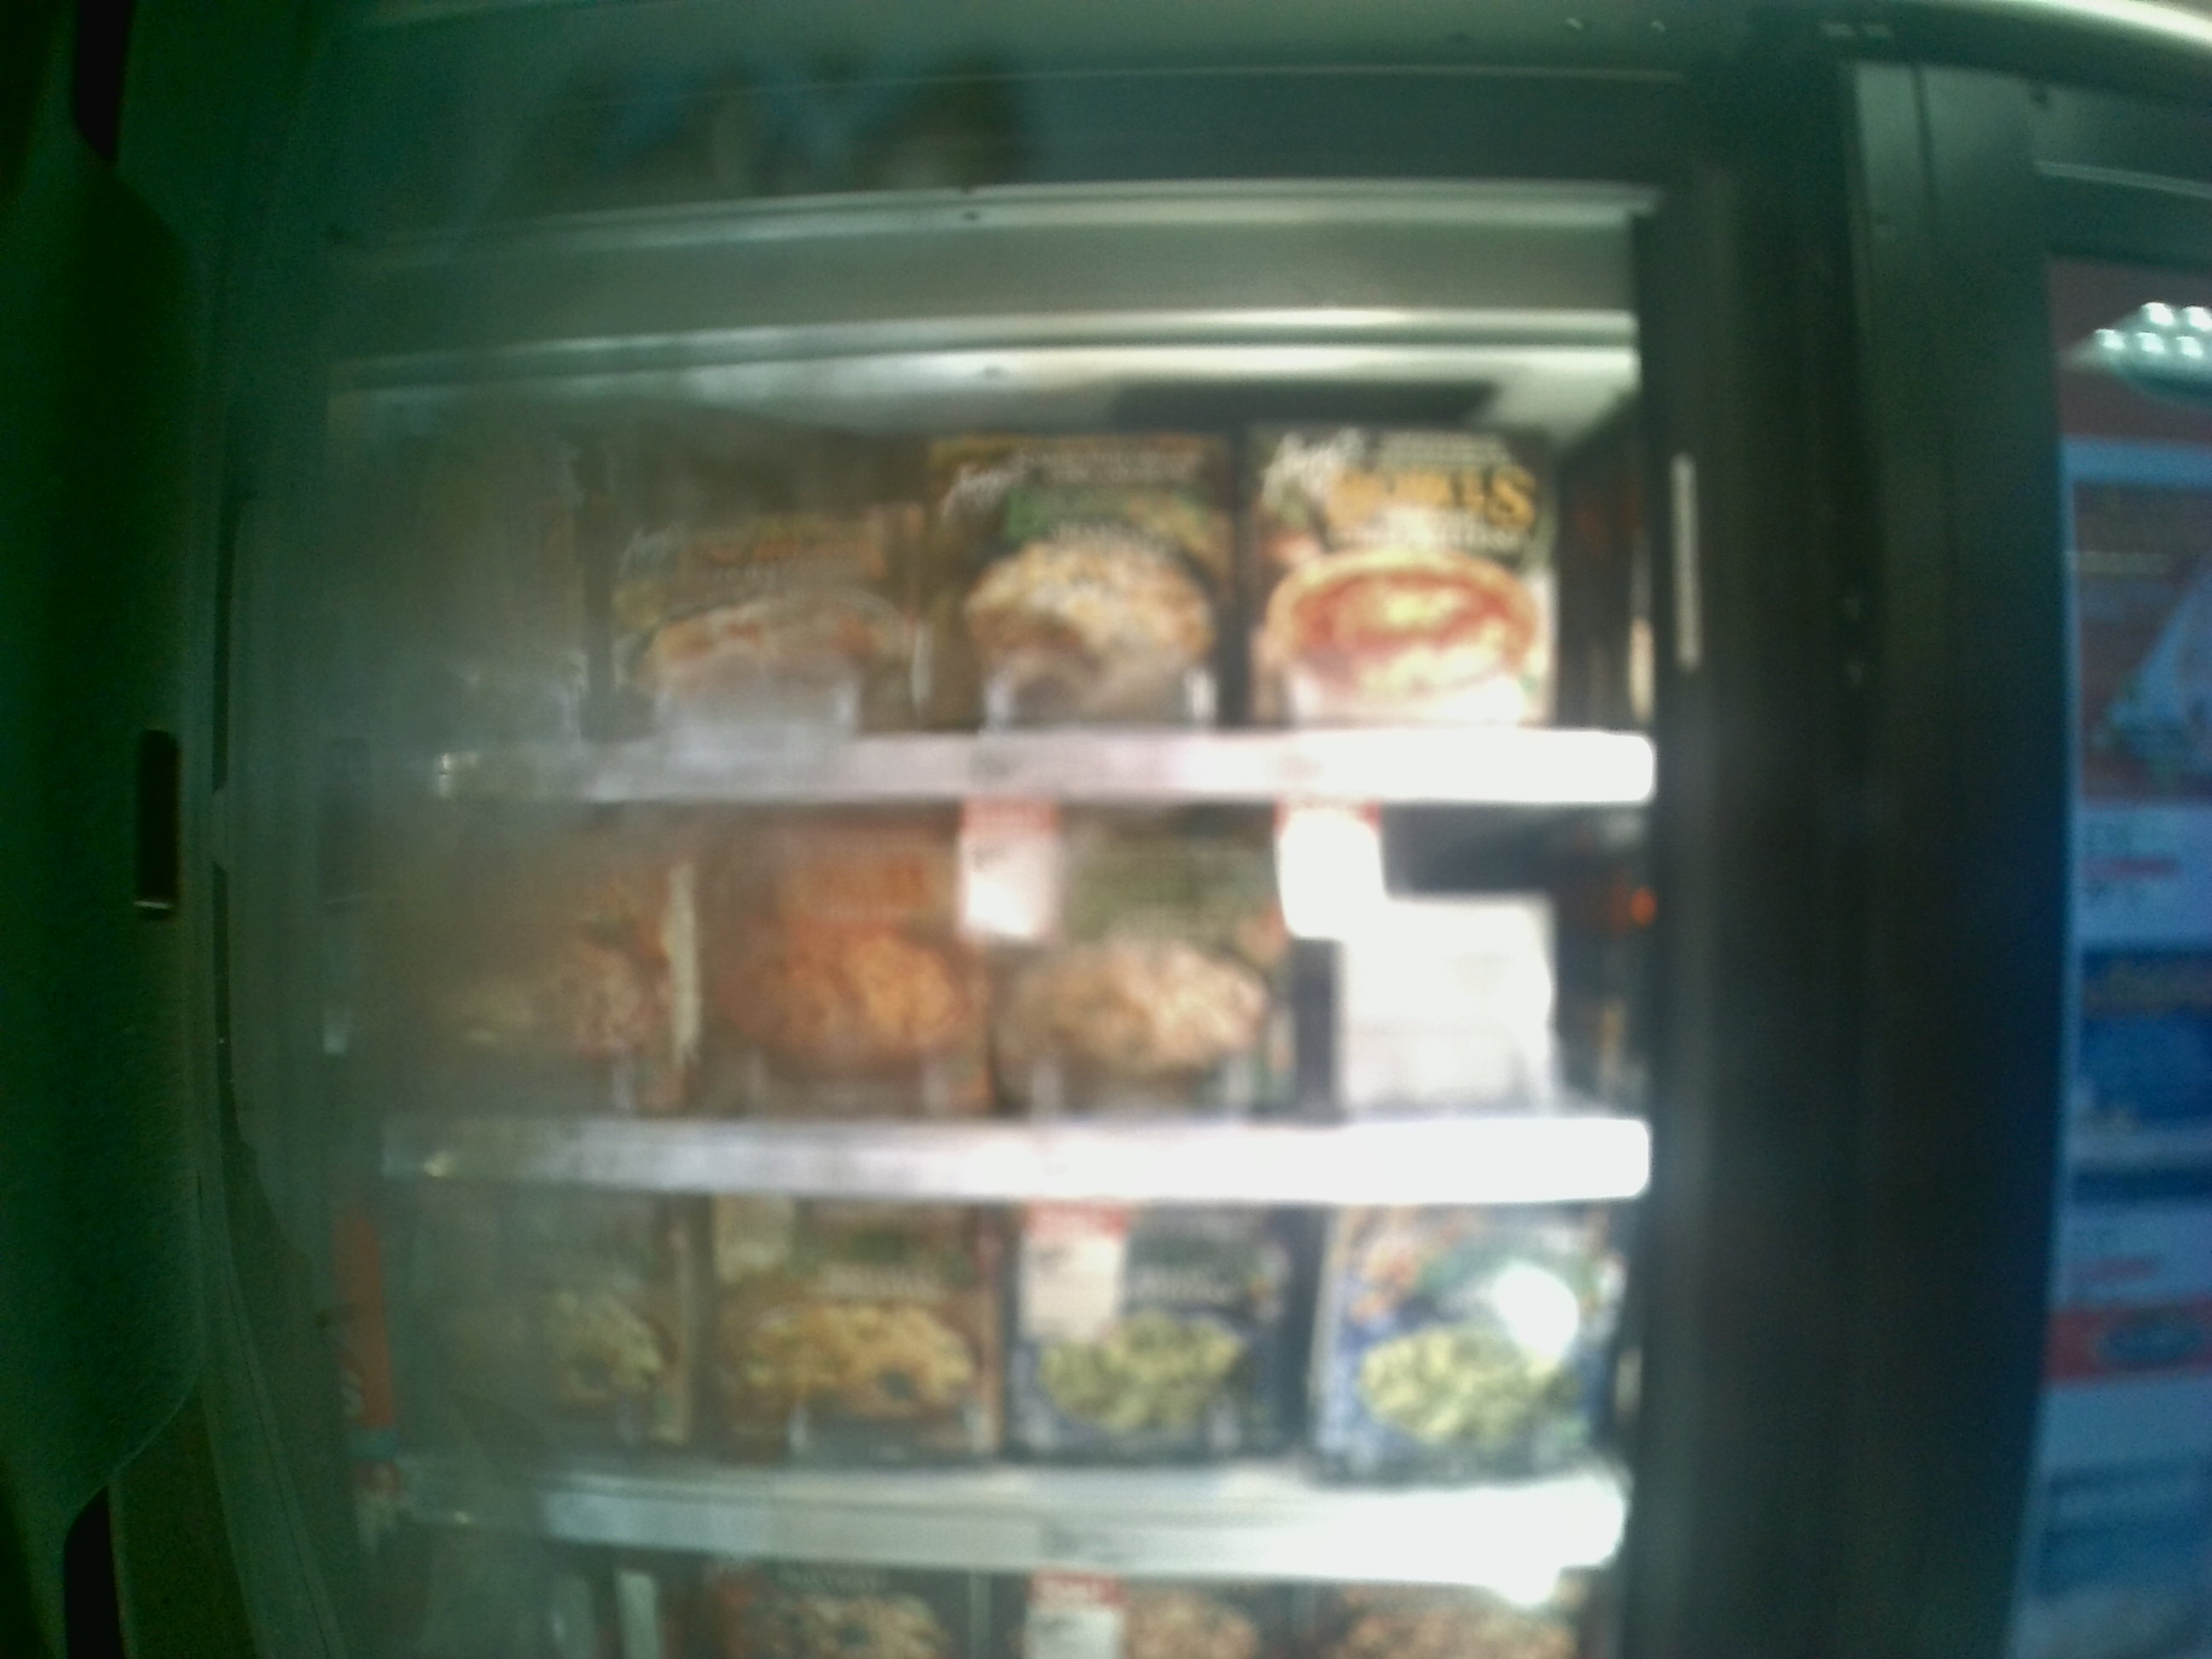frozen-food-shelf: (341, 396, 1672, 814), (336, 814, 1676, 1211), (340, 1211, 1684, 1584)
